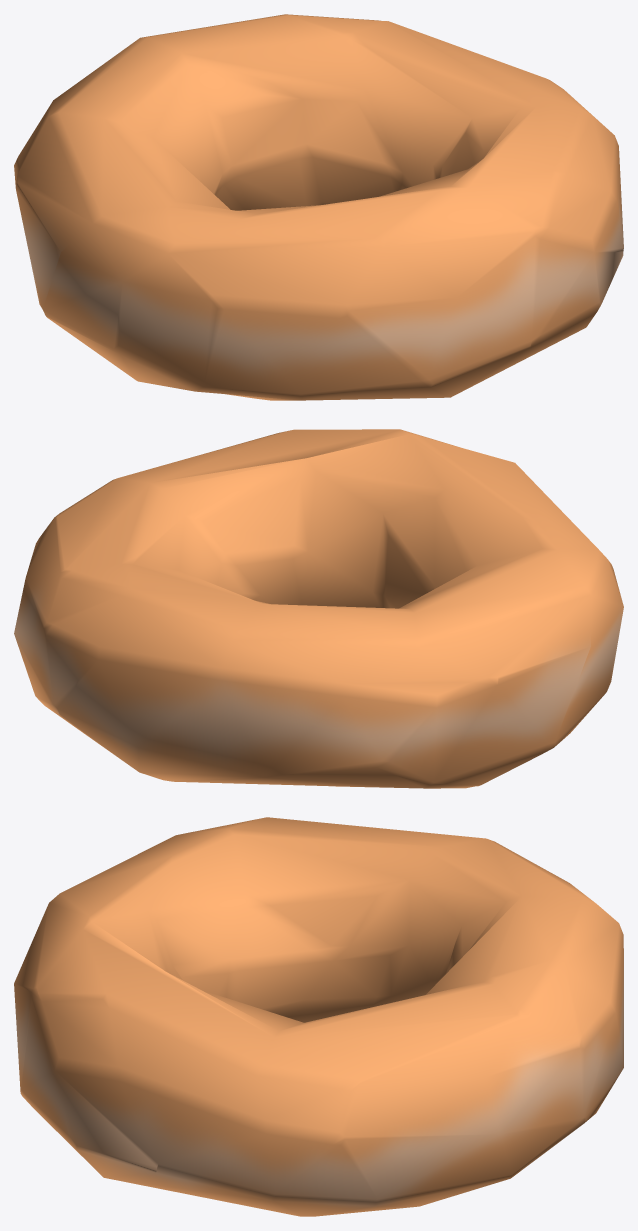
3 renders of one model, top to bottom at view 1: azimuth 30°, elevation 25°; view 2: azimuth 150°, elevation 25°; view 3: azimuth 270°, elevation 25°, orthographic. The views are drawn at different scales.
Visible parts, largest first — view 1: Donut1.001; view 2: Donut1.001; view 3: Donut1.001.
Boxes of the visible parts, x1=… form: Donut1.001: x1=14, y1=14, x2=623, y2=400; Donut1.001: x1=14, y1=429, x2=623, y2=788; Donut1.001: x1=14, y1=817, x2=623, y2=1216.
Size of the model in its own units: 2.07 by 0.7236 by 1.94.
Materials: 1 (1 with a texture image).
